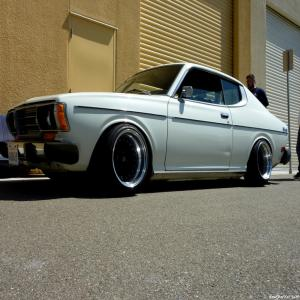Vehicle-registration-plate: (9, 146, 18, 165)
